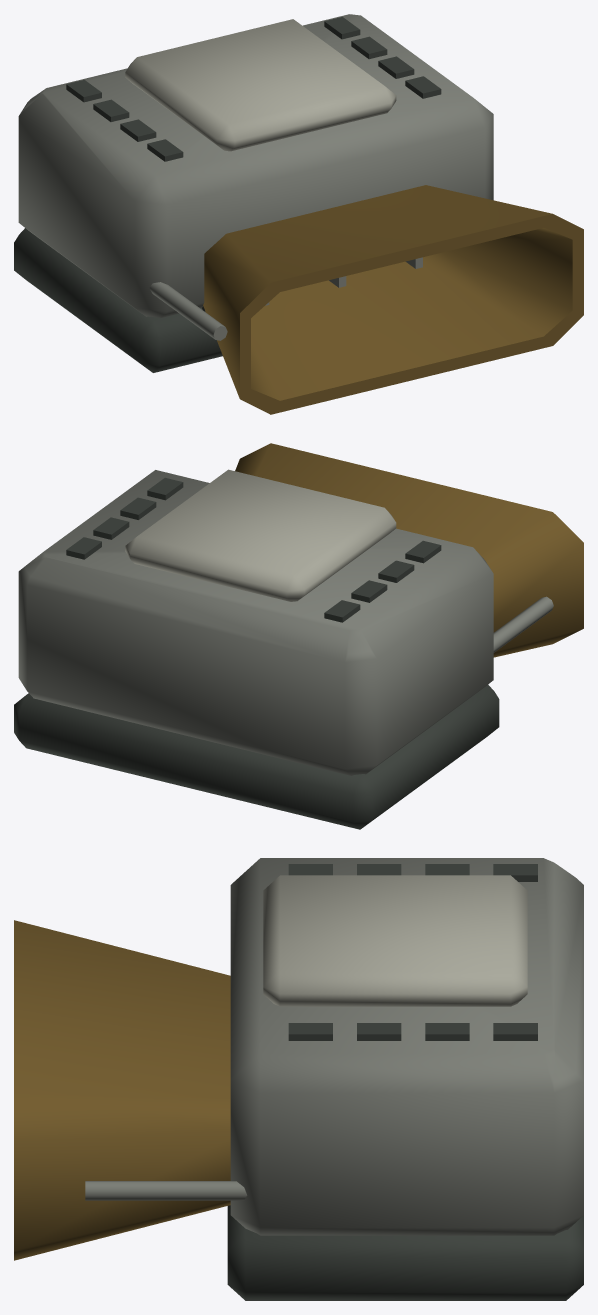
File: large_thruster.obj
The picture shows the model from 3 angles, top to bottom: view 1: azimuth 30°, elevation 25°; view 2: azimuth 150°, elevation 25°; view 3: azimuth 270°, elevation 25°; orthographic projection. The views are drawn at different scales.
Visible parts, largest first — view 1: source_component_003, source_component_001, source_component_002, source_component_000, source_component_008, source_component_012, source_component_015, source_component_014, source_component_017, source_component_011, source_component_010, source_component_013 (+1 smaller); view 2: source_component_001, source_component_000, source_component_003, source_component_002, source_component_008, source_component_011, source_component_012, source_component_013, source_component_014, source_component_010, source_component_015, source_component_016 (+1 smaller); view 3: source_component_001, source_component_003, source_component_002, source_component_000, source_component_009, source_component_011, source_component_013, source_component_015, source_component_017, source_component_016.
Part boxes in pixels (left/top/right/bottom): source_component_003: left=203, top=185, right=583, bottom=414; source_component_001: left=18, top=14, right=493, bottom=317; source_component_002: left=125, top=19, right=396, bottom=151; source_component_000: left=14, top=228, right=222, bottom=372; source_component_008: left=149, top=282, right=227, bottom=340; source_component_012: left=120, top=119, right=156, bottom=141; source_component_015: left=351, top=36, right=387, bottom=59; source_component_014: left=93, top=99, right=129, bottom=121; source_component_017: left=324, top=17, right=360, bottom=39; source_component_011: left=405, top=76, right=441, bottom=98; source_component_010: left=147, top=139, right=183, bottom=161; source_component_013: left=378, top=56, right=414, bottom=78; source_component_001: left=18, top=470, right=493, bottom=775; source_component_000: left=14, top=685, right=499, bottom=829; source_component_003: left=235, top=443, right=583, bottom=657; source_component_002: left=125, top=469, right=396, bottom=601; source_component_008: left=493, top=596, right=553, bottom=652; source_component_011: left=147, top=477, right=183, bottom=500; source_component_012: left=378, top=560, right=414, bottom=582; source_component_013: left=120, top=497, right=156, bottom=519; source_component_014: left=351, top=580, right=387, bottom=602; source_component_010: left=405, top=540, right=441, bottom=563; source_component_015: left=93, top=517, right=129, bottom=539; source_component_016: left=324, top=600, right=360, bottom=622; source_component_001: left=230, top=858, right=583, bottom=1235; source_component_003: left=14, top=920, right=230, bottom=1260; source_component_002: left=263, top=875, right=527, bottom=1006; source_component_000: left=227, top=1205, right=583, bottom=1300; source_component_009: left=85, top=1181, right=247, bottom=1200; source_component_011: left=288, top=1023, right=332, bottom=1040; source_component_013: left=357, top=1023, right=401, bottom=1040; source_component_015: left=425, top=1023, right=469, bottom=1040; source_component_017: left=493, top=1023, right=537, bottom=1040; source_component_016: left=493, top=864, right=537, bottom=881.
Size of the model in its own units: 1.76 by 1.02 by 1.92.
